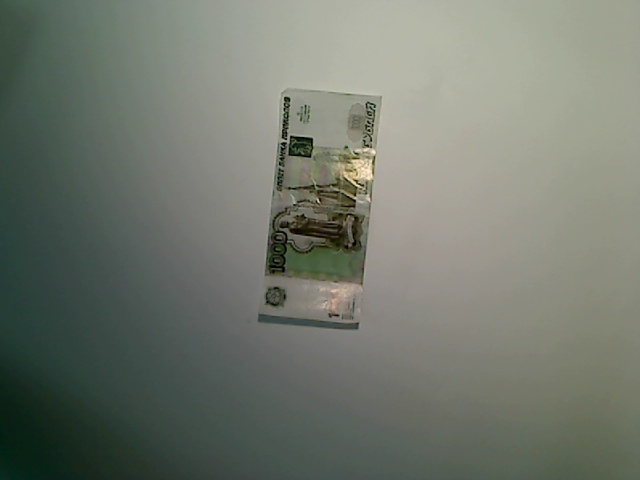banknotes: (256, 86, 385, 329)
